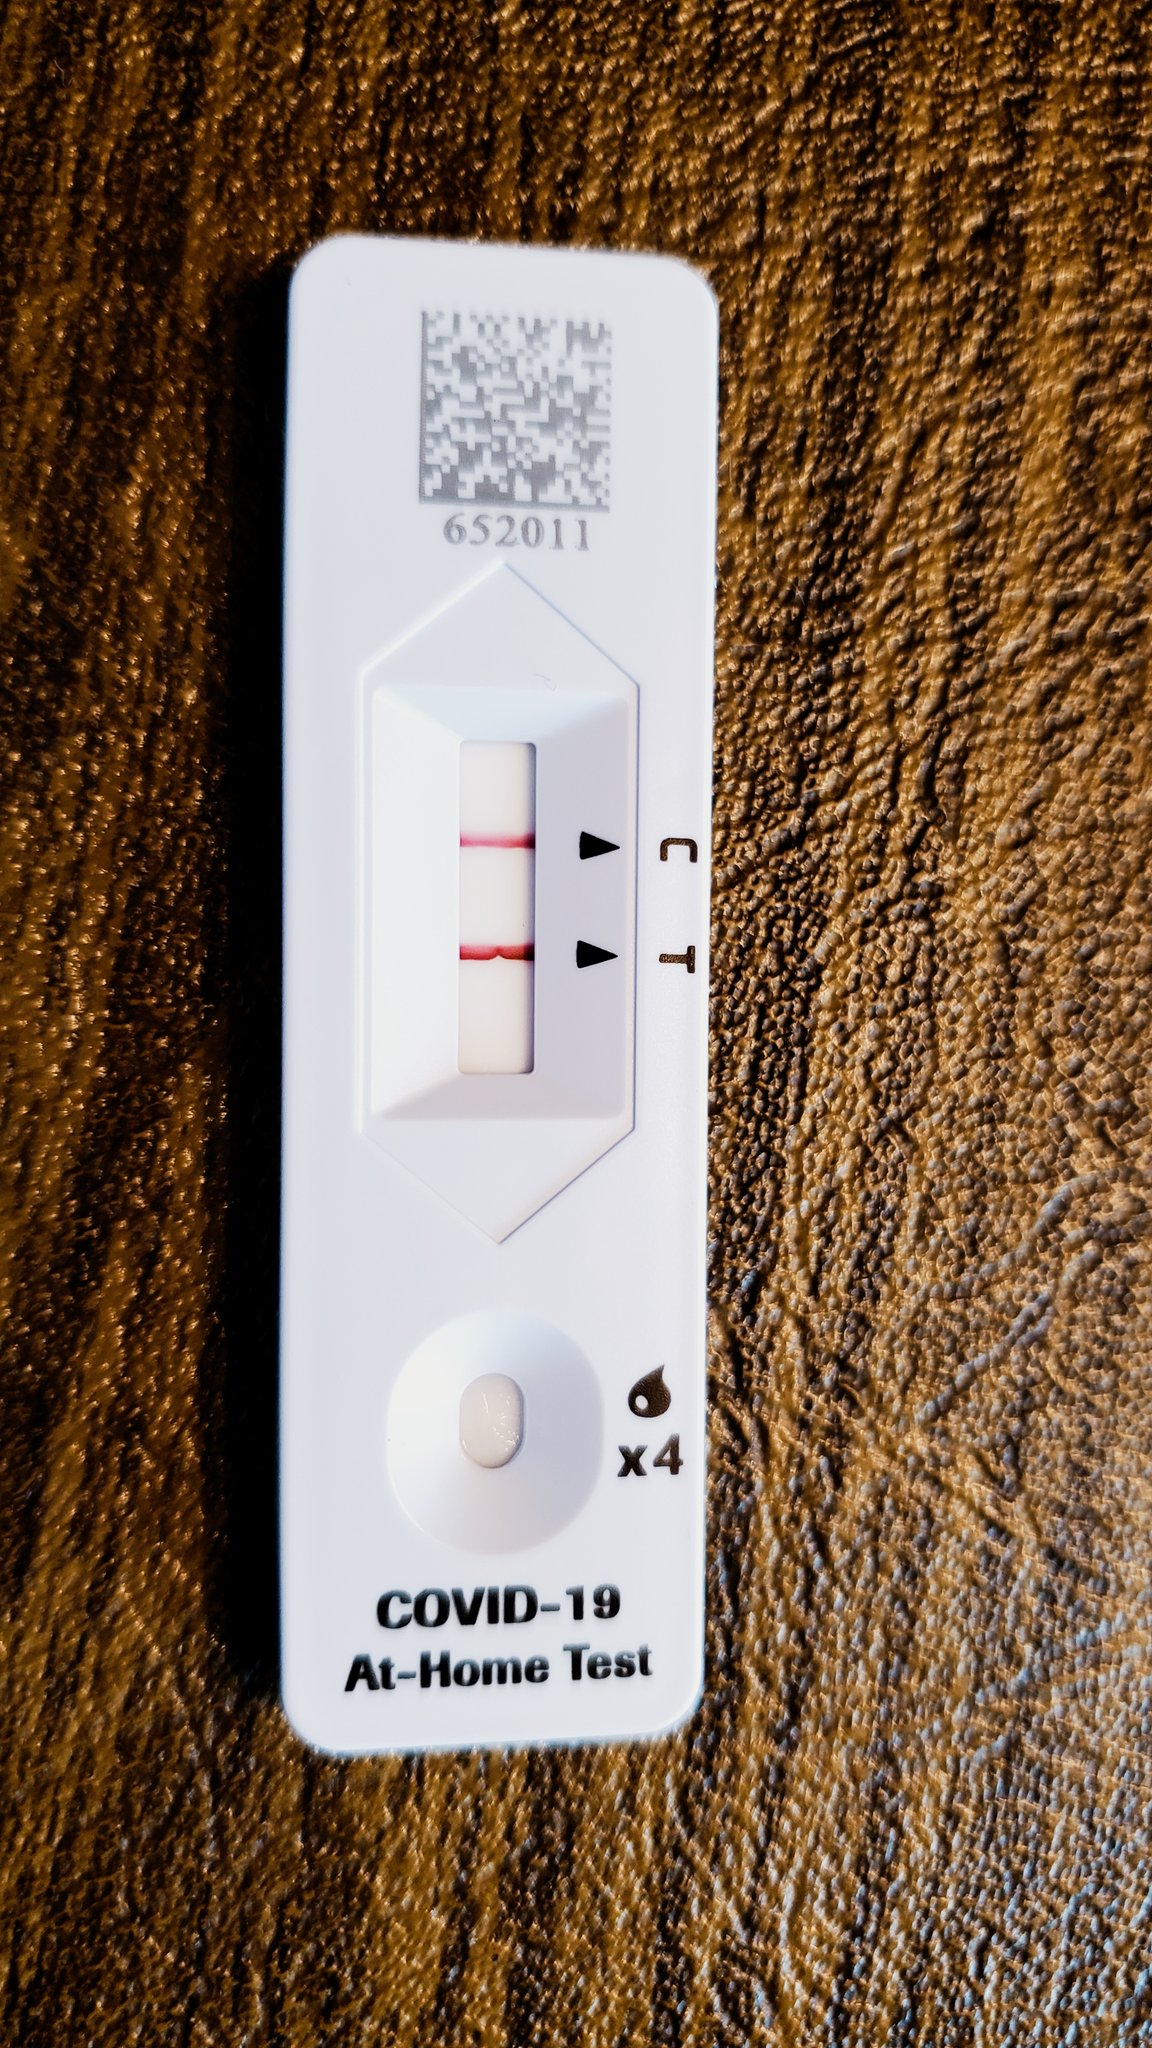positive: (384, 715, 554, 1108)
